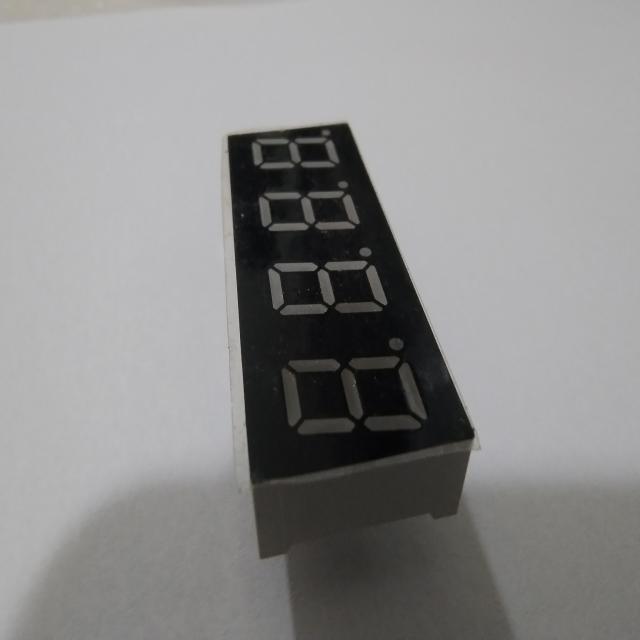7_segments_4_digits: (218, 114, 481, 566)
